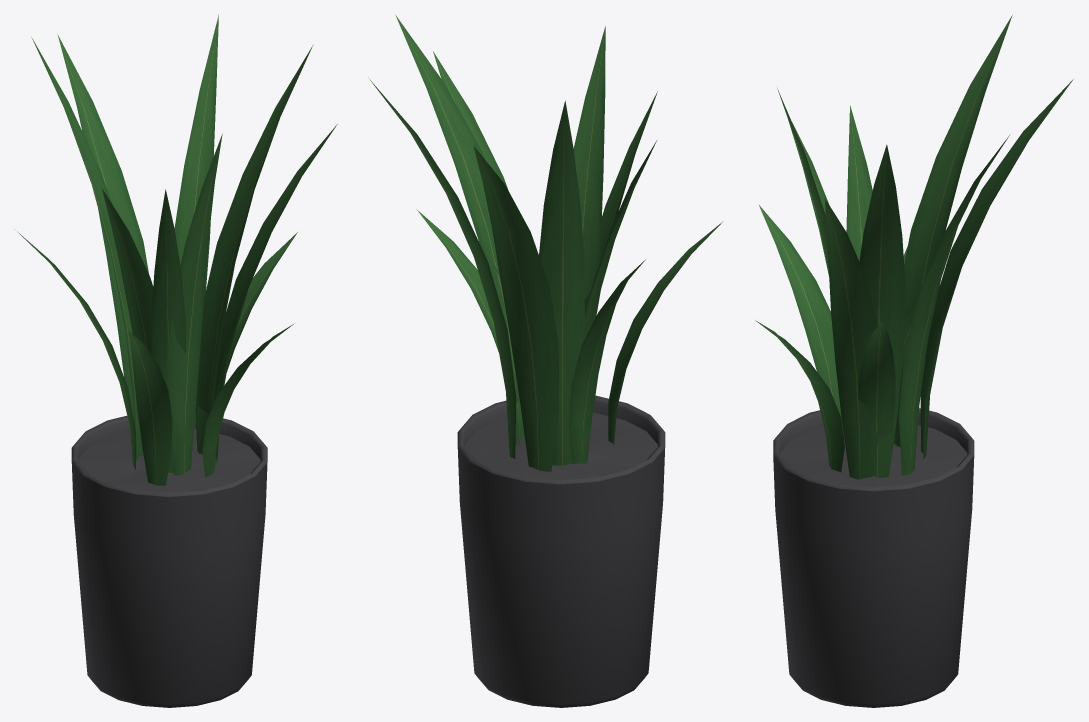
The model's file is decor_c_plant_snake.gltf.
The picture shows the model from 3 angles, left to right: view 1: azimuth 30°, elevation 25°; view 2: azimuth 150°, elevation 25°; view 3: azimuth 270°, elevation 25°; orthographic projection. The views are drawn at different scales.
Parts seen in each view (by area): view 1: DecorC_PlantSnake_Charcoal, DecorC_PlantSnake_Leaf_NoCollide; view 2: DecorC_PlantSnake_Charcoal, DecorC_PlantSnake_Leaf_NoCollide; view 3: DecorC_PlantSnake_Charcoal, DecorC_PlantSnake_Leaf_NoCollide.
Part boxes in pixels (x1=…): DecorC_PlantSnake_Charcoal: x1=71, y1=414, x2=267, y2=707; DecorC_PlantSnake_Leaf_NoCollide: x1=14, y1=14, x2=337, y2=485; DecorC_PlantSnake_Charcoal: x1=457, y1=395, x2=665, y2=707; DecorC_PlantSnake_Leaf_NoCollide: x1=368, y1=15, x2=723, y2=471; DecorC_PlantSnake_Charcoal: x1=773, y1=408, x2=974, y2=707; DecorC_PlantSnake_Leaf_NoCollide: x1=755, y1=15, x2=1073, y2=479.
Bounding box in the file's own units: 0.5308 × 1.15 × 0.5347.
Materials: 2 (1 with a texture image).
